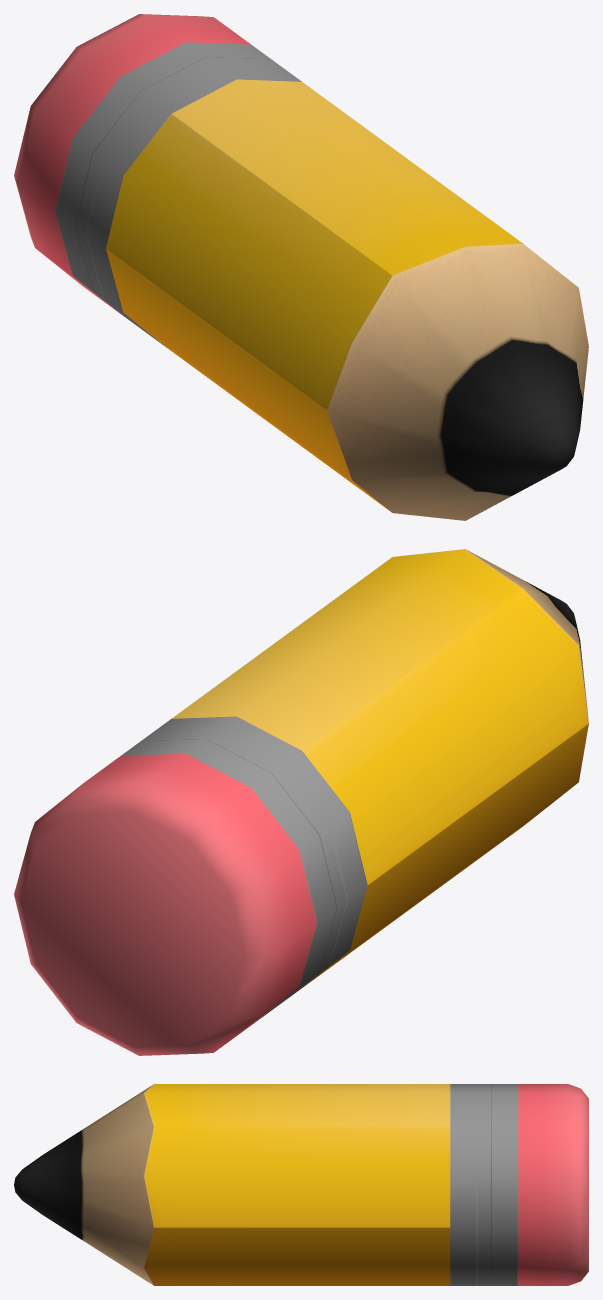
File: Pencil.FBX
The picture shows the model from 3 angles, top to bottom: view 1: azimuth 30°, elevation 25°; view 2: azimuth 150°, elevation 25°; view 3: azimuth 270°, elevation 25°; orthographic projection. The views are drawn at different scales.
Parts seen in each view (by area): view 1: Pencil; view 2: Pencil; view 3: Pencil.
Part boxes in pixels (<box>): Pencil: <box>14,14,588,520</box>; Pencil: <box>14,549,588,1055</box>; Pencil: <box>14,1084,588,1285</box>.
Bounding box in the file's own units: 13.56 × 13.56 × 38.5.
1 material, 1 textured.
